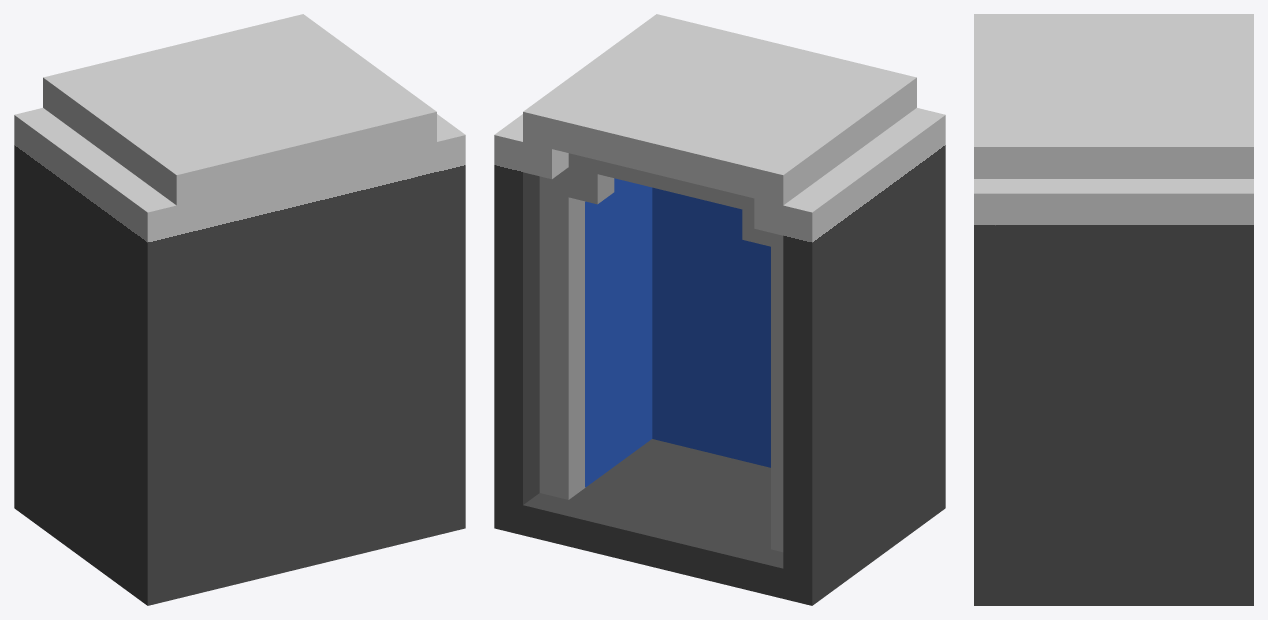
File: PottyBox.dae
3 renders of one model, left to right at view 1: azimuth 30°, elevation 25°; view 2: azimuth 150°, elevation 25°; view 3: azimuth 270°, elevation 25°, orthographic. The views are drawn at different scales.
Visible parts, largest first — view 1: PottyBox; view 2: PottyBox; view 3: PottyBox.
Part boxes in pixels (bbox=[...]): PottyBox: bbox=[14, 14, 465, 605]; PottyBox: bbox=[494, 14, 945, 605]; PottyBox: bbox=[974, 14, 1253, 605].
Size of the model in its own units: 1.1 by 0.8 by 1.4.
Materials: 1 (1 with a texture image).
